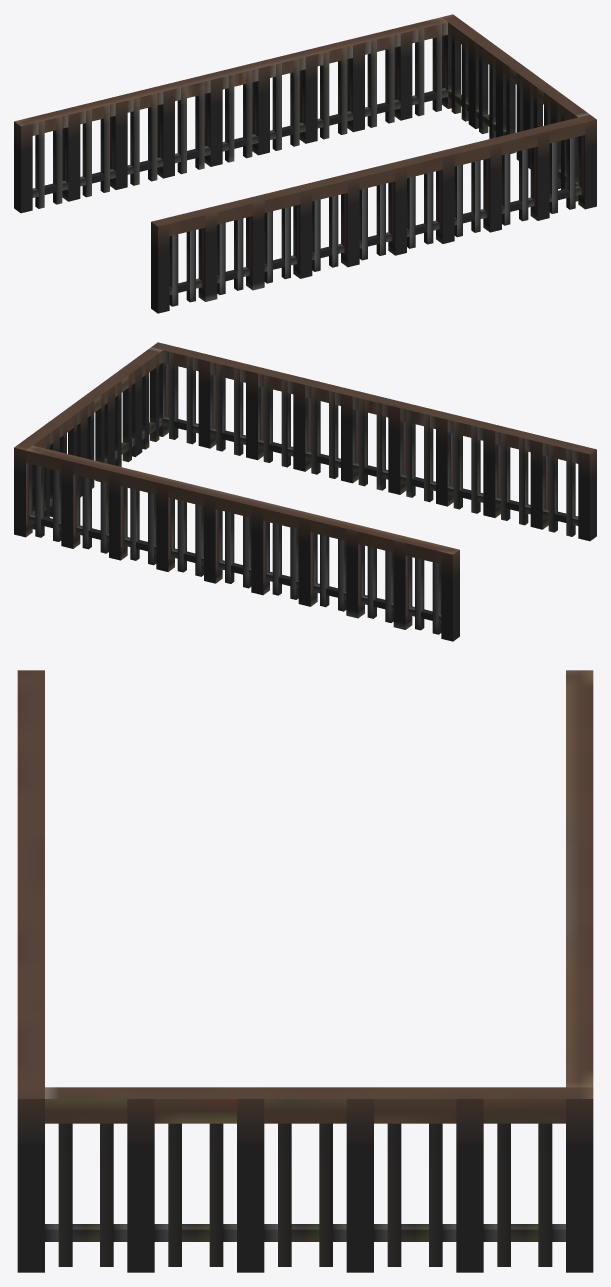
The model's file is BarrierStairCase_00.fbx.
3 renders of one model, top to bottom at view 1: azimuth 30°, elevation 25°; view 2: azimuth 150°, elevation 25°; view 3: azimuth 270°, elevation 25°, orthographic. The views are drawn at different scales.
Visible parts, largest first — view 1: BarrierStairCase_00; view 2: BarrierStairCase_00; view 3: BarrierStairCase_00.
Boxes of the visible parts, x1=… form: BarrierStairCase_00: x1=14, y1=14, x2=596, y2=313; BarrierStairCase_00: x1=14, y1=342, x2=596, y2=641; BarrierStairCase_00: x1=17, y1=670, x2=593, y2=1272.
Size of the model in its own units: 370 by 210 by 70.
1 material, 1 textured.
